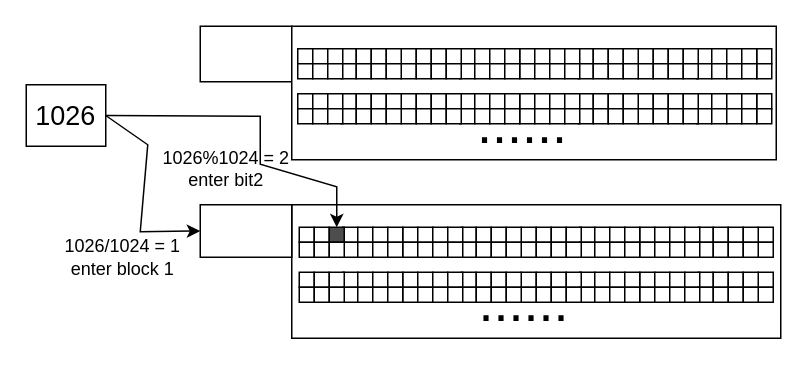
This 807x365 diagram has some shape labels left out. The shapes that lost their labels are listed below. From the top down, each one's box as (x1, y1, x2, y2) in pixels, then its label:
(199, 25, 292, 82): block: 0 start: 0
(199, 203, 292, 257): block: 1 start: 1024
